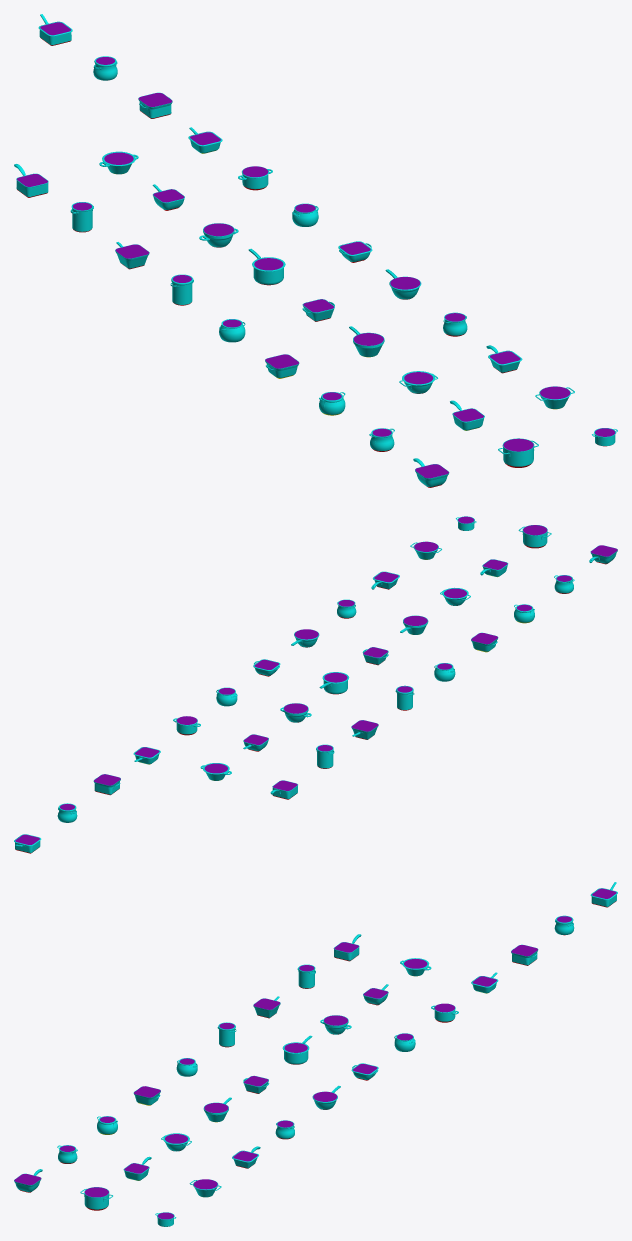
File: pots_grp.fbx
3 renders of one model, top to bottom at view 1: azimuth 30°, elevation 25°; view 2: azimuth 150°, elevation 25°; view 3: azimuth 330°, elevation 25°, orthographic. The views are drawn at different scales.
Bounding box in the file's own units: 237 × 25.4 × 1145.
